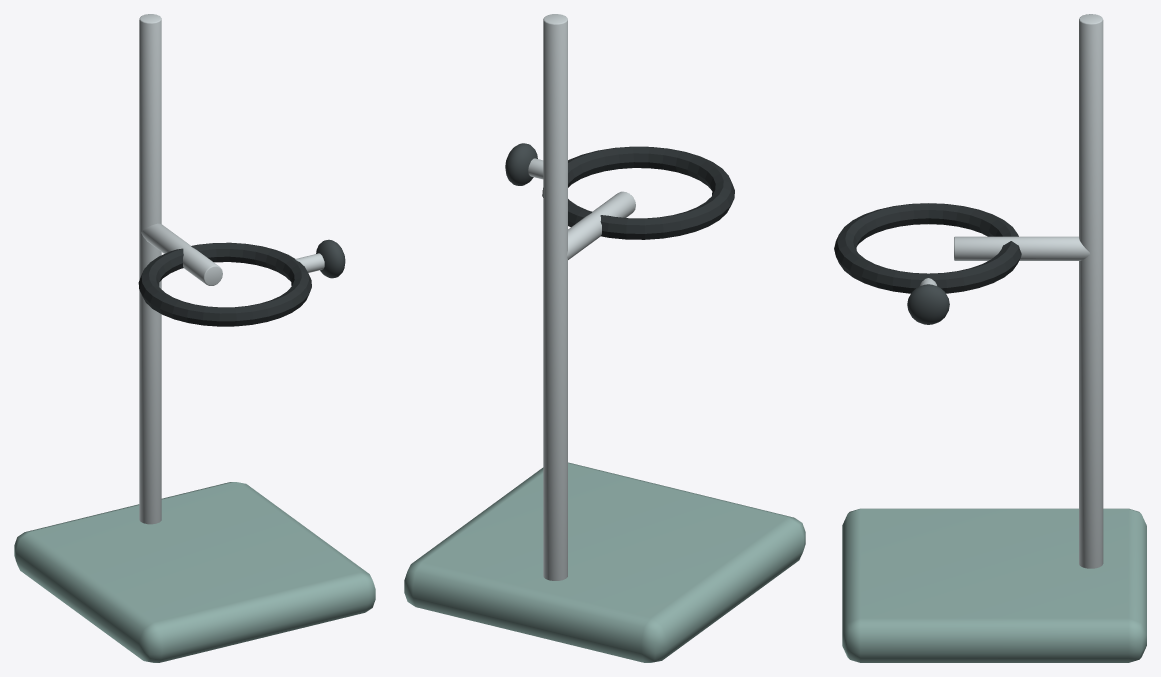
File: boiling-tube-holder.glb
The picture shows the model from 3 angles, left to right: view 1: azimuth 30°, elevation 25°; view 2: azimuth 150°, elevation 25°; view 3: azimuth 270°, elevation 25°; orthographic projection. The views are drawn at different scales.
Visible parts, largest first — view 1: Weighted clamp base, Steel stand upright, Tube support padded ring, Clamp support arm, Clamp screw knob; view 2: Weighted clamp base, Steel stand upright, Tube support padded ring, Clamp support arm, Clamp screw knob; view 3: Weighted clamp base, Steel stand upright, Tube support padded ring, Clamp support arm, Clamp screw knob.
Part boxes in pixels (x1,y1,x2,y2): Weighted clamp base: [14, 482, 375, 662]; Steel stand upright: [139, 14, 161, 524]; Tube support padded ring: [138, 242, 311, 326]; Clamp support arm: [141, 223, 222, 285]; Clamp screw knob: [316, 239, 345, 278]; Weighted clamp base: [404, 462, 805, 662]; Steel stand upright: [543, 14, 567, 580]; Tube support padded ring: [542, 146, 734, 239]; Clamp support arm: [566, 191, 635, 259]; Clamp screw knob: [505, 143, 537, 185]; Weighted clamp base: [842, 508, 1146, 662]; Steel stand upright: [1079, 14, 1103, 568]; Tube support padded ring: [834, 203, 1021, 293]; Clamp support arm: [954, 236, 1089, 260]; Clamp screw knob: [907, 284, 949, 324].
Bounding box in the file's own units: 0.29 × 0.64 × 0.308.
